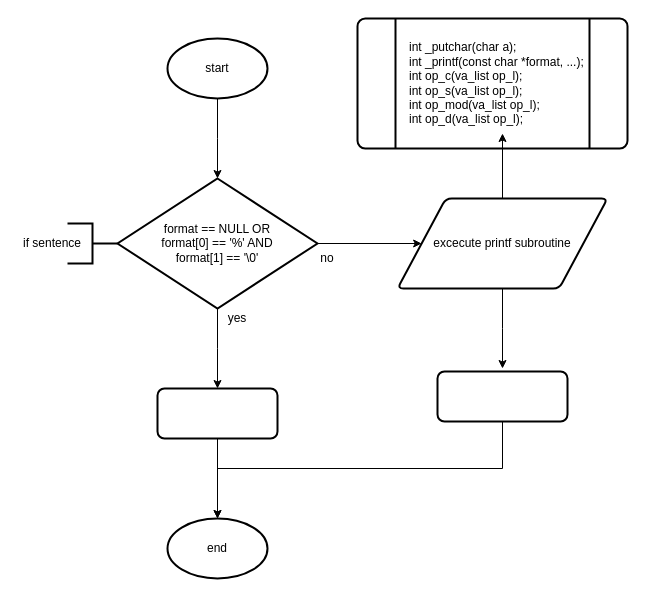
The diagram is 645 pixels wide and 596 high, and some of its shapes have lost their labels. The shapes that lost their labels are listed below. From the top down, each one's centre as x and y in pixels, then its label:
At point (217, 413): "return (-1)".
At point (502, 396): "return (cont)".
